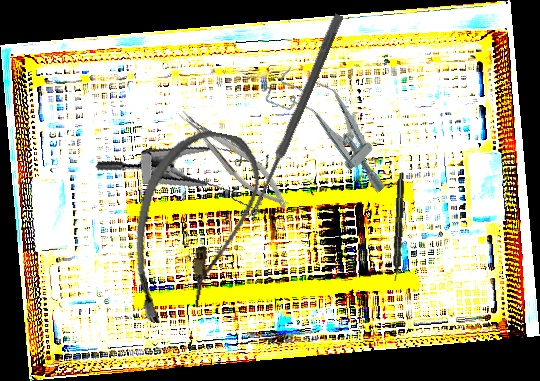Cannula: (119, 120, 269, 338)
Handpiece: (391, 172, 406, 282)
Needle Holder: (173, 99, 296, 218)
Speculum: (93, 121, 281, 243), (258, 54, 409, 202)
Surgical Spoon: (247, 12, 344, 221)
